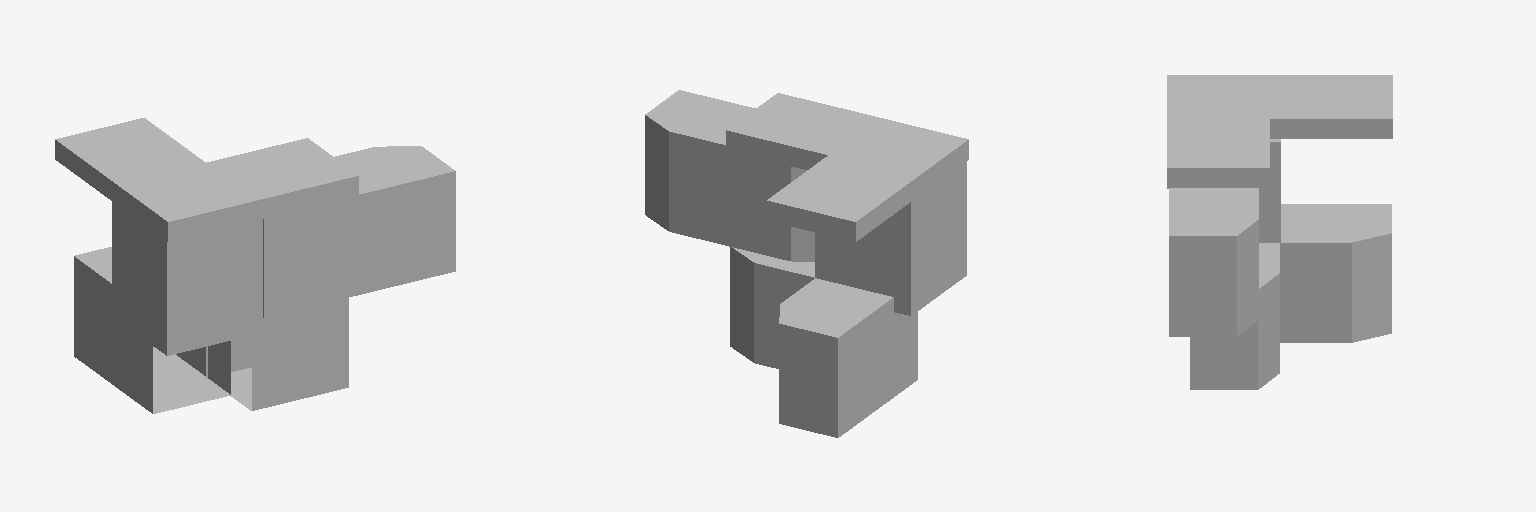
Rendered from mylandscaping_block1_top_c.obj.
3 views of the same model, side by side, from view 1: azimuth 30°, elevation 25°; view 2: azimuth 150°, elevation 25°; view 3: azimuth 270°, elevation 25° (orthographic).
Visible parts, largest first — view 1: Block_InsideCorner_Top_Cube.019; view 2: Block_InsideCorner_Top_Cube.019; view 3: Block_InsideCorner_Top_Cube.019.
Boxes of the visible parts, box(x1,y1,x2,y2) form: Block_InsideCorner_Top_Cube.019: box(55, 118, 455, 413); Block_InsideCorner_Top_Cube.019: box(645, 90, 968, 437); Block_InsideCorner_Top_Cube.019: box(1167, 75, 1392, 389).
Size of the model in its own units: 1.51 by 1.1 by 1.02.